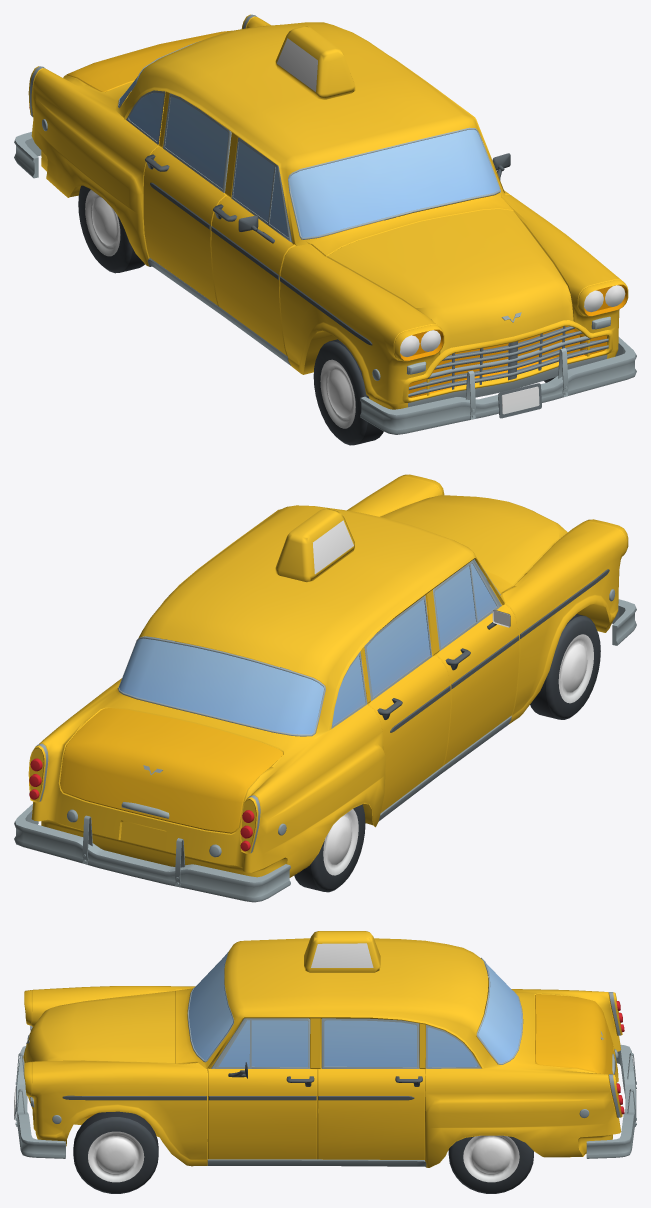
The model's file is America_taxi.fbx.
The picture shows the model from 3 angles, top to bottom: view 1: azimuth 30°, elevation 25°; view 2: azimuth 150°, elevation 25°; view 3: azimuth 270°, elevation 25°; orthographic projection. The views are drawn at different scales.
Parts seen in each view (by area): view 1: polySurface2, America_taxi_Wheel_L, America_taxi_Wheel_R; view 2: polySurface2, America_taxi_Wheel_L, America_taxi_Wheel_R; view 3: polySurface2, America_taxi_Wheel_L, America_taxi_Wheel_R.
Boxes of the visible parts, x1=… form: polySurface2: x1=14, y1=14, x2=636, y2=434; America_taxi_Wheel_L: x1=313, y1=339, x2=555, y2=445; America_taxi_Wheel_R: x1=78, y1=185, x2=144, y2=273; polySurface2: x1=14, y1=474, x2=636, y2=902; America_taxi_Wheel_L: x1=530, y1=614, x2=600, y2=719; America_taxi_Wheel_R: x1=294, y1=804, x2=365, y2=892; polySurface2: x1=14, y1=931, x2=636, y2=1167; America_taxi_Wheel_L: x1=73, y1=1111, x2=158, y2=1193; America_taxi_Wheel_R: x1=448, y1=1135, x2=533, y2=1193.
Size of the model in its own units: 0.6211 by 0.5918 by 1.55.
